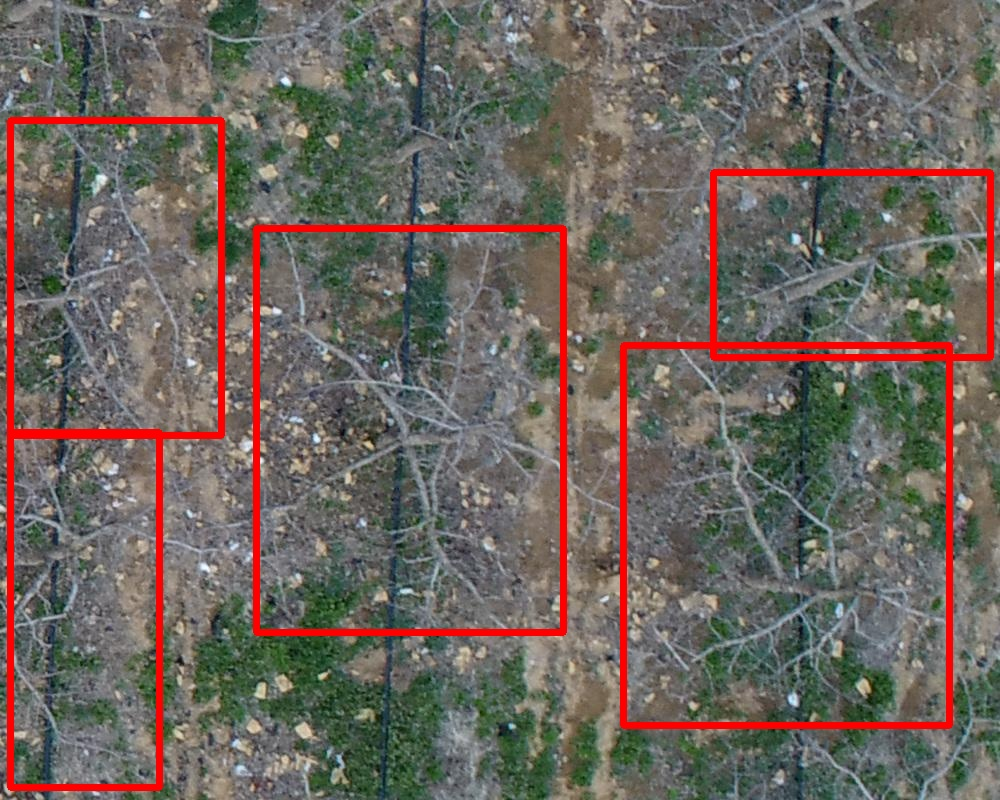apple: (256, 228, 563, 632), (623, 345, 949, 725), (10, 120, 221, 435), (10, 432, 159, 787), (713, 172, 990, 357)
